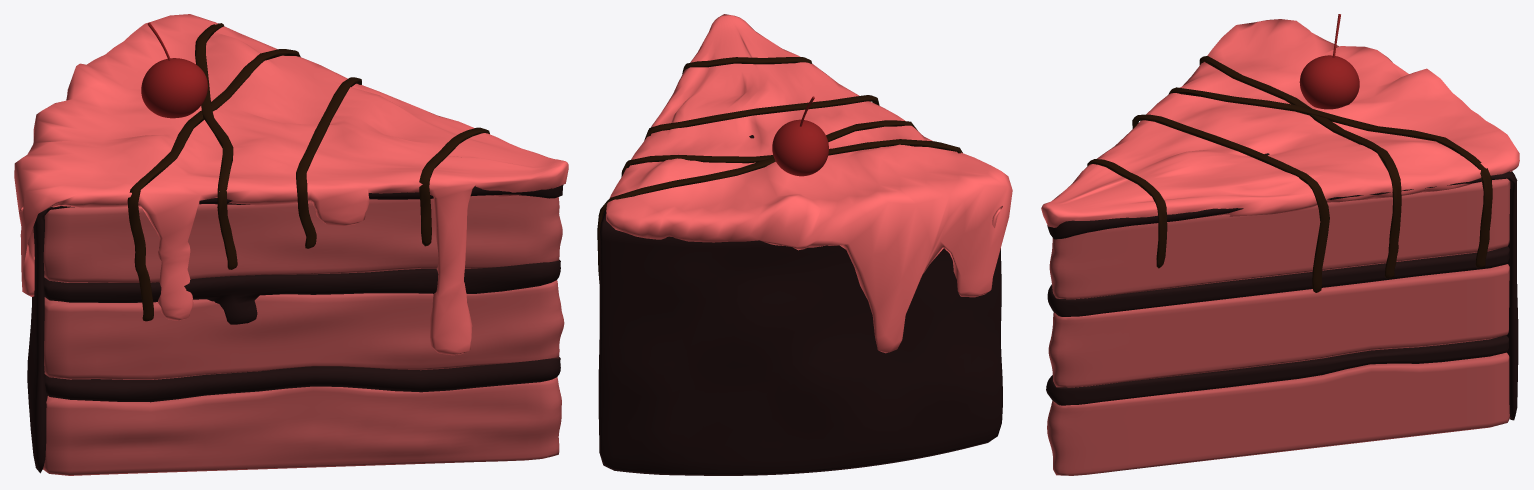
Rendered from Cake_11.7.fbx.
The picture shows the model from 3 angles, left to right: view 1: azimuth 30°, elevation 25°; view 2: azimuth 150°, elevation 25°; view 3: azimuth 270°, elevation 25°; orthographic projection. The views are drawn at different scales.
Visible parts, largest first — view 1: Cake; view 2: Cake; view 3: Cake.
Boxes of the visible parts, x1,y1,x2,y2 form: Cake: (14,14,568,475); Cake: (597,14,1012,475); Cake: (1041,14,1519,475).
Size of the model in its own units: 9.1 by 7.62 by 9.47.
